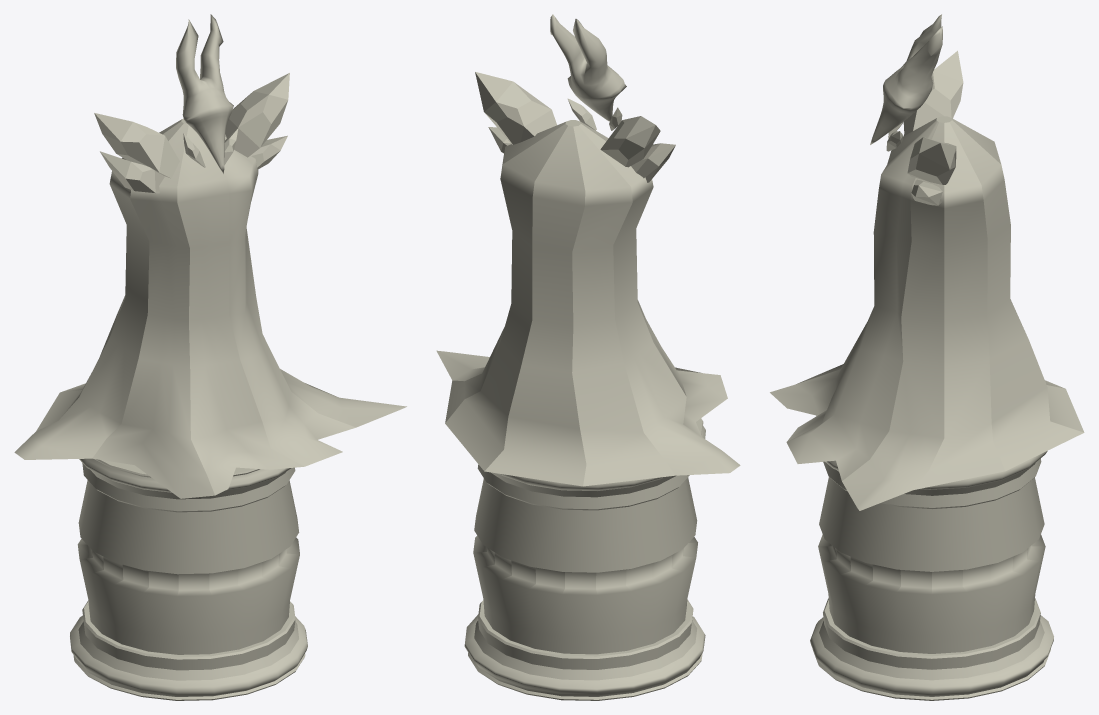
Rendered from Estatua_Verdugo_FBX.fbx.
3 views of the same model, side by side, from view 1: azimuth 30°, elevation 25°; view 2: azimuth 150°, elevation 25°; view 3: azimuth 270°, elevation 25° (orthographic).
Parts seen in each view (by area): view 1: Estatua_Verdugo; view 2: Estatua_Verdugo; view 3: Estatua_Verdugo.
Boxes of the visible parts, box(x1,y1,x2,y2) form: Estatua_Verdugo: box(14, 14, 406, 700); Estatua_Verdugo: box(436, 14, 740, 700); Estatua_Verdugo: box(770, 14, 1084, 700).
Bounding box in the file's own units: 1.88 × 3.3 × 1.48.
